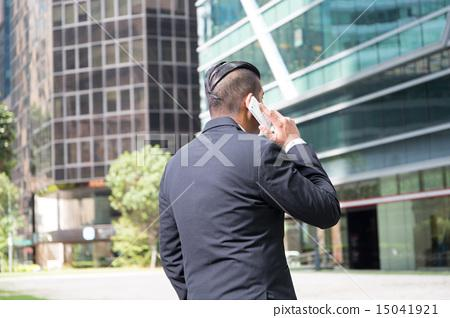phone: (248, 96, 273, 131)
